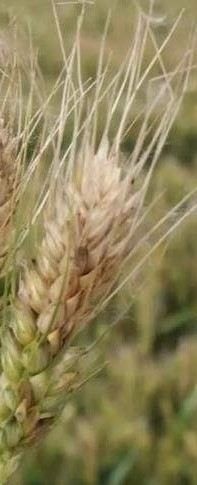Wheat scab: (8, 140, 166, 472)
